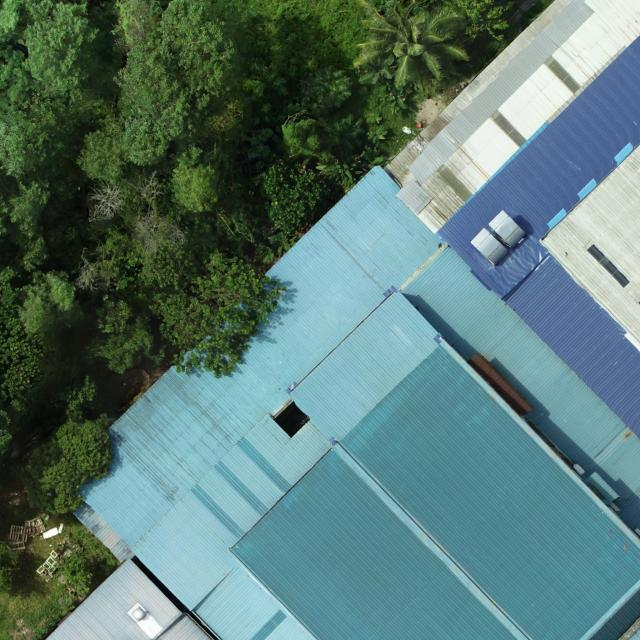Tree: (150, 248, 287, 378), (70, 170, 189, 298), (348, 0, 471, 91), (0, 44, 71, 182), (113, 48, 188, 165), (24, 419, 114, 516), (0, 266, 52, 432), (156, 0, 239, 99), (20, 0, 98, 91), (80, 294, 155, 372), (252, 164, 328, 233), (17, 268, 85, 338), (166, 146, 222, 213), (111, 0, 166, 57), (74, 130, 125, 184), (452, 0, 517, 41), (298, 64, 352, 110), (284, 118, 333, 162), (316, 147, 364, 187), (59, 554, 95, 595), (331, 114, 364, 150), (389, 89, 408, 115), (367, 125, 388, 144), (366, 109, 382, 124)
